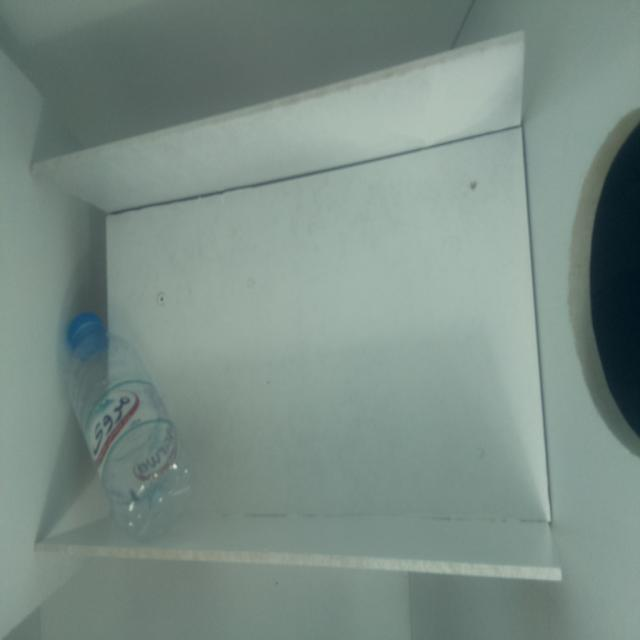Anorganik: (60, 296, 199, 528)
